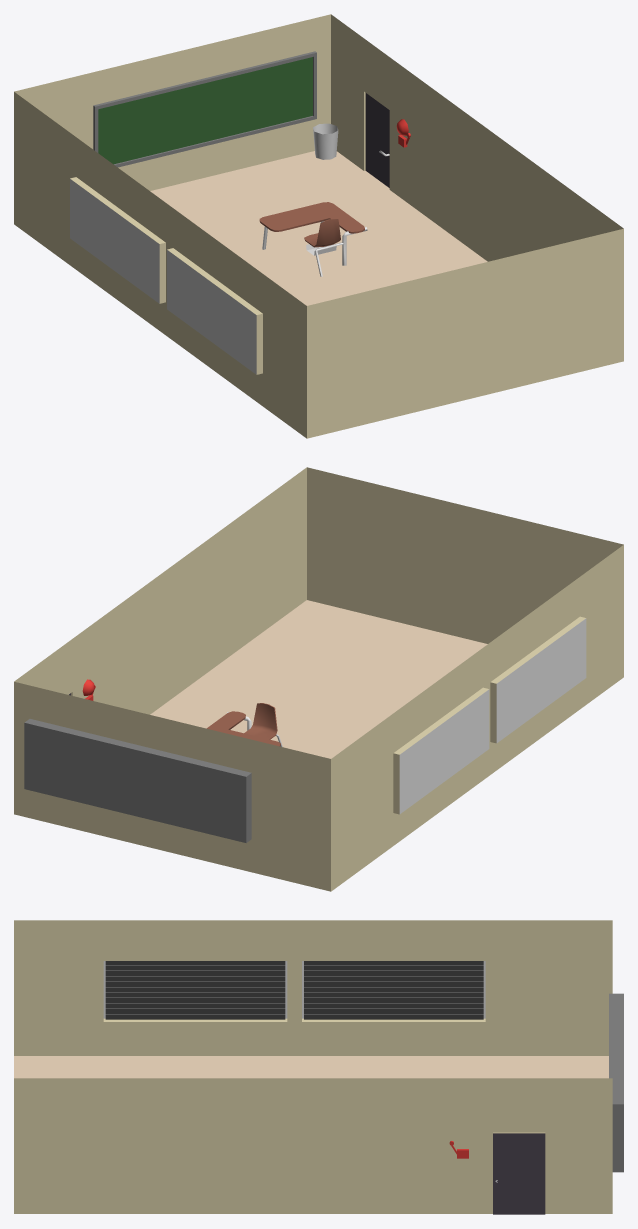
The model's file is Classroom.fbx.
3 renders of one model, top to bottom at view 1: azimuth 30°, elevation 25°; view 2: azimuth 150°, elevation 25°; view 3: azimuth 270°, elevation 25°, orthographic. The views are drawn at different scales.
Visible parts, largest first — view 1: Classroom Room, Classroom Bench, Classroom Chair, Classroom Bin; view 2: Classroom Room, Classroom Chair, Classroom Bench; view 3: Classroom Room.
Part boxes in pixels (x1,y1,x2,y2): Classroom Room: (14, 14, 623, 438); Classroom Bench: (259, 202, 367, 265); Classroom Chair: (304, 219, 344, 276); Classroom Bin: (313, 123, 338, 159); Classroom Room: (14, 467, 623, 891); Classroom Chair: (244, 703, 282, 747); Classroom Bench: (206, 711, 280, 746); Classroom Room: (14, 920, 623, 1214).
Size of the model in its own units: 1030 by 404 by 1630.
